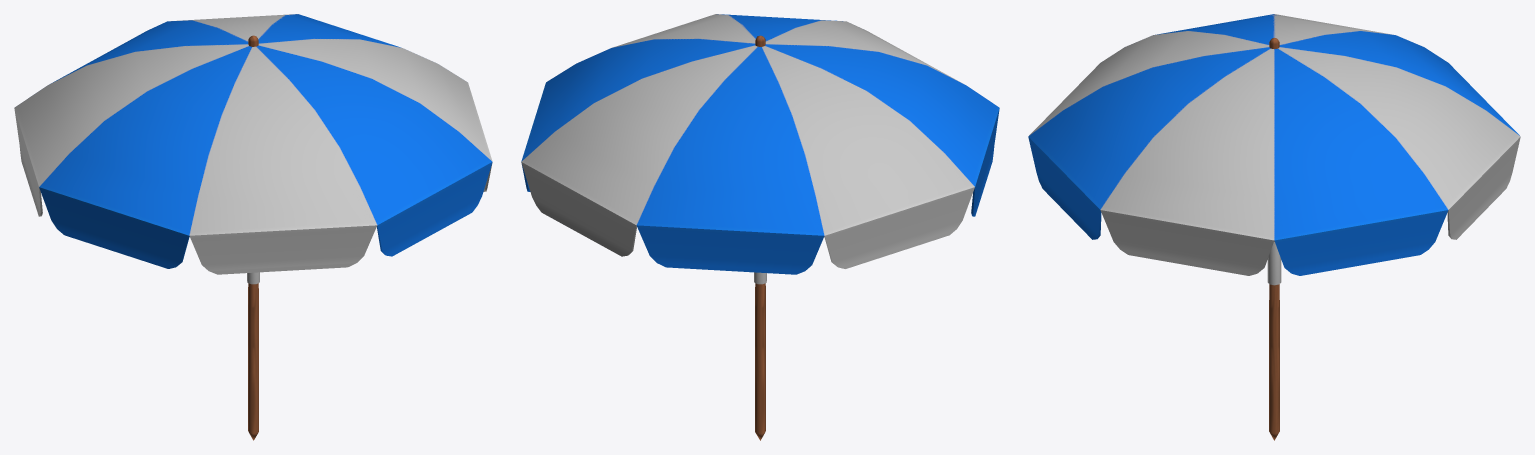
Rendered from beach_assets_umbrella.fbx.
3 renders of one model, left to right at view 1: azimuth 30°, elevation 25°; view 2: azimuth 150°, elevation 25°; view 3: azimuth 270°, elevation 25°, orthographic.
Parts seen in each view (by area): view 1: beach_assets_umbrella; view 2: beach_assets_umbrella; view 3: beach_assets_umbrella.
Boxes of the visible parts, box(x1,y1,x2,y2) form: beach_assets_umbrella: box(14, 14, 492, 440); beach_assets_umbrella: box(521, 14, 999, 440); beach_assets_umbrella: box(1028, 14, 1520, 440).
Size of the model in its own units: 277 by 250 by 277.
Materials: 1 (1 with a texture image).
